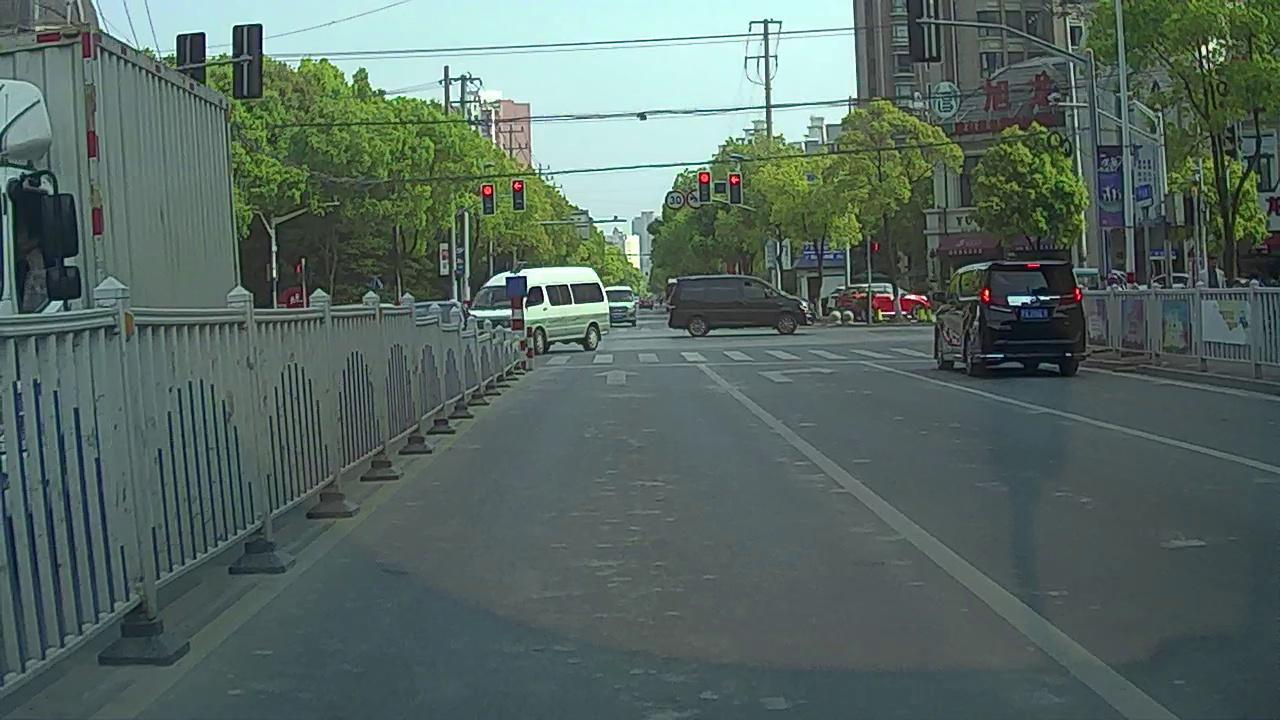traffic_light: (729, 171, 741, 204), (482, 183, 494, 214), (512, 180, 524, 210), (700, 171, 711, 202)
